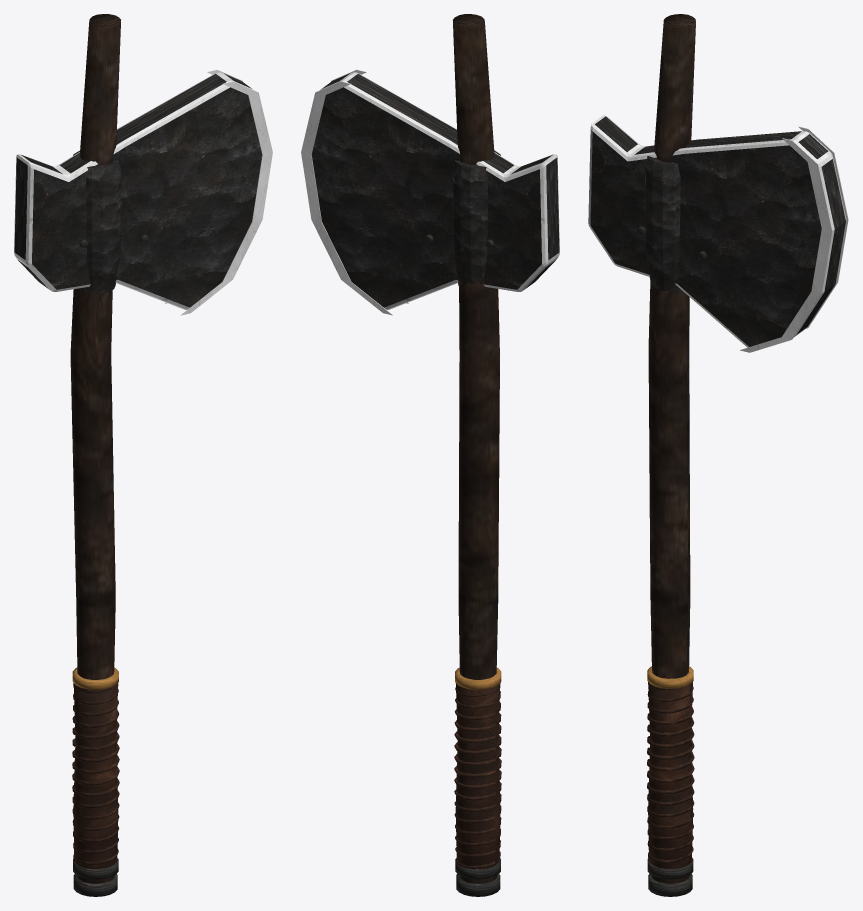
Rendered from cinderwood_greataxe.glb.
3 views of the same model, side by side, from view 1: azimuth 30°, elevation 25°; view 2: azimuth 150°, elevation 25°; view 3: azimuth 330°, elevation 25° (orthographic).
Visible parts, largest first — view 1: Shaped bearded axe head.004, Straight palm shaft and tapered ironwood.007, Bound palm grip.016, Swaged head socket.007, Continuous bound leather seam.016, Honed cutting cheek.008, Socketed pommel ferrule.007, Grip forward ferrule.016, Grip rear ferrule.016; view 2: Shaped bearded axe head.004, Straight palm shaft and tapered ironwood.007, Bound palm grip.016, Swaged head socket.007, Continuous bound leather seam.016, Honed cutting cheek.009, Socketed pommel ferrule.007, Grip forward ferrule.016; view 3: Shaped bearded axe head.004, Straight palm shaft and tapered ironwood.007, Bound palm grip.016, Swaged head socket.007, Continuous bound leather seam.016, Honed cutting cheek.008, Socketed pommel ferrule.007, Honed cutting cheek.009, Grip forward ferrule.016, Grip rear ferrule.016.
Boxes of the visible parts, x1,y1,x2,y2 form: Shaped bearded axe head.004: (14,72,262,309); Straight palm shaft and tapered ironwood.007: (70,14,120,883); Bound palm grip.016: (73,683,118,869); Swaged head socket.007: (73,150,121,294); Continuous bound leather seam.016: (72,683,119,864); Honed cutting cheek.008: (180,81,272,315); Socketed pommel ferrule.007: (73,874,117,896); Grip forward ferrule.016: (72,667,118,689); Grip rear ferrule.016: (73,858,118,879); Shaped bearded axe head.004: (311,72,559,309); Straight palm shaft and tapered ironwood.007: (453,14,499,883); Bound palm grip.016: (455,683,500,869); Swaged head socket.007: (452,150,500,286); Continuous bound leather seam.016: (454,683,501,868); Honed cutting cheek.009: (301,81,393,315); Socketed pommel ferrule.007: (456,874,500,896); Grip forward ferrule.016: (455,667,501,689); Shaped bearded axe head.004: (588,115,846,347); Straight palm shaft and tapered ironwood.007: (648,14,695,883); Bound palm grip.016: (648,682,693,868); Swaged head socket.007: (645,149,680,291); Continuous bound leather seam.016: (647,682,694,864); Honed cutting cheek.008: (740,138,832,352); Socketed pommel ferrule.007: (648,874,692,896); Honed cutting cheek.009: (798,126,848,328); Grip forward ferrule.016: (647,666,693,688); Grip rear ferrule.016: (647,858,693,879).
Size of the model in its own units: 0.5198 by 1.76 by 0.0968.
Materials: 5 (5 with a texture image).
